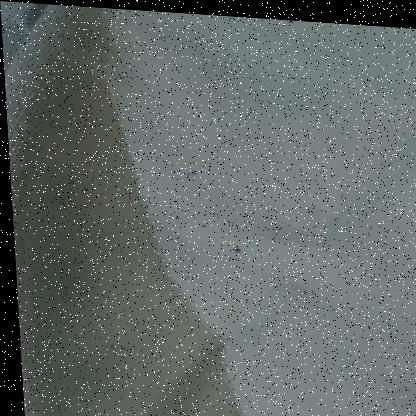spot: (223, 239, 253, 257), (181, 162, 203, 179)
